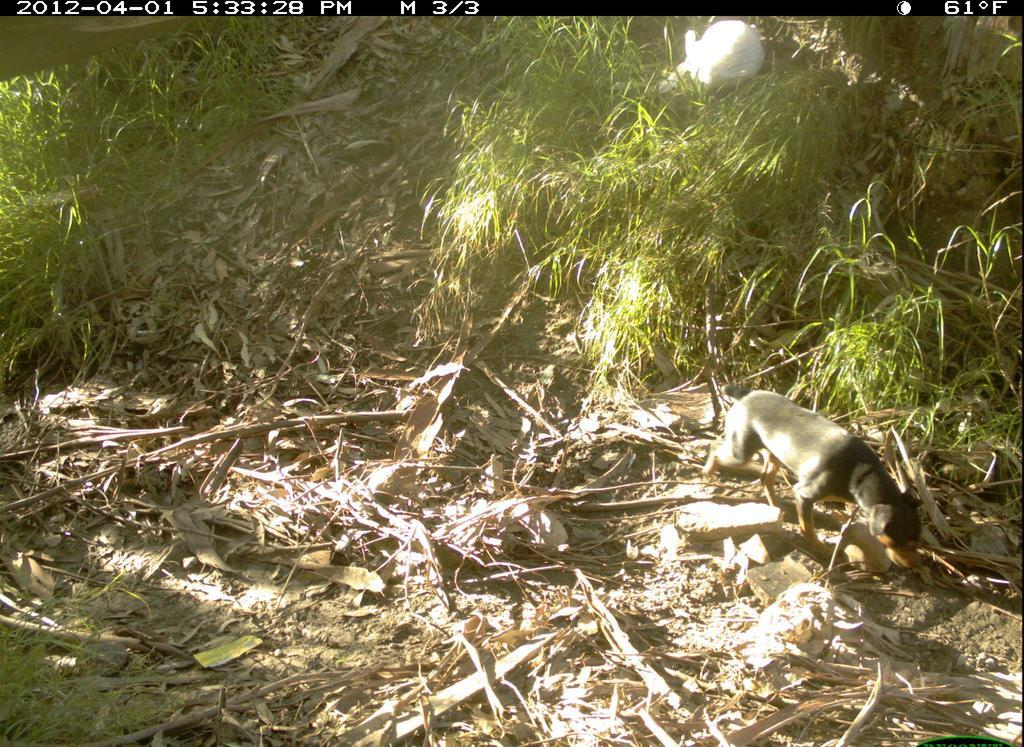dog: (687, 370, 939, 591)
